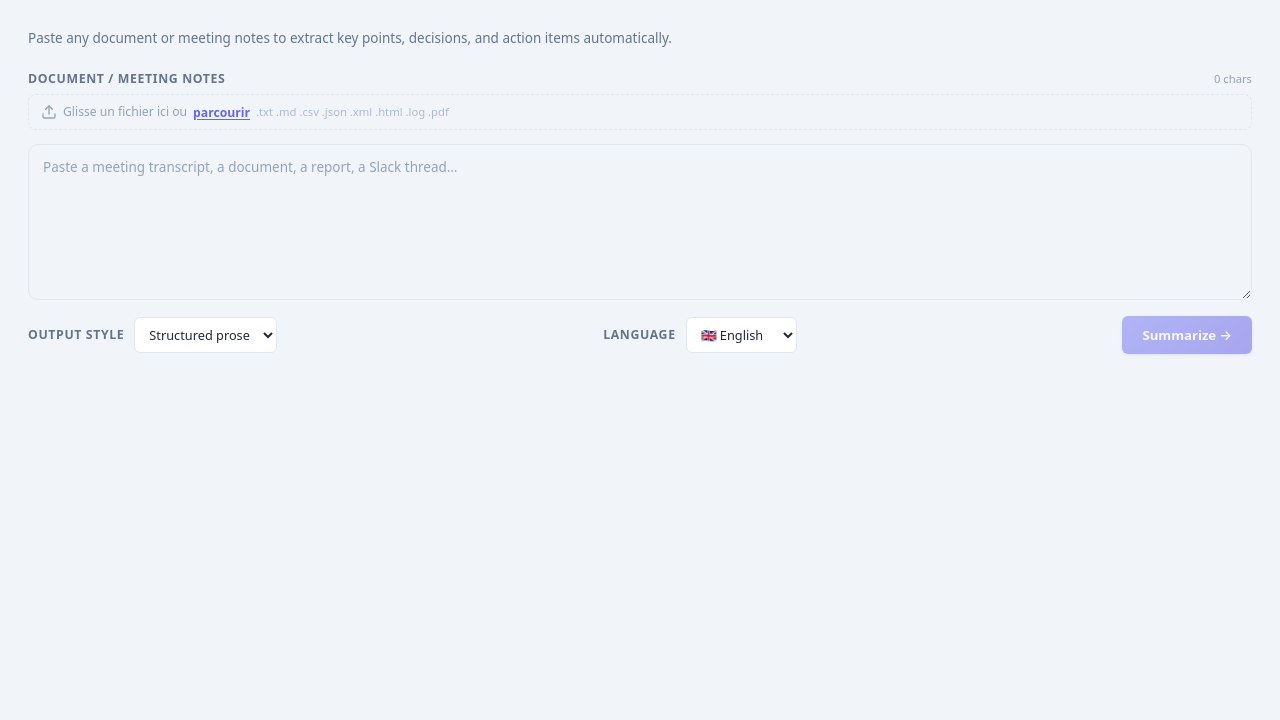
Scenario: DocumentAnalyzer › shows result on successful API response
Type "We agreed to migrate." into the text box labelled "Document / meeting notes" at (640, 222), box [28, 144, 1252, 300]
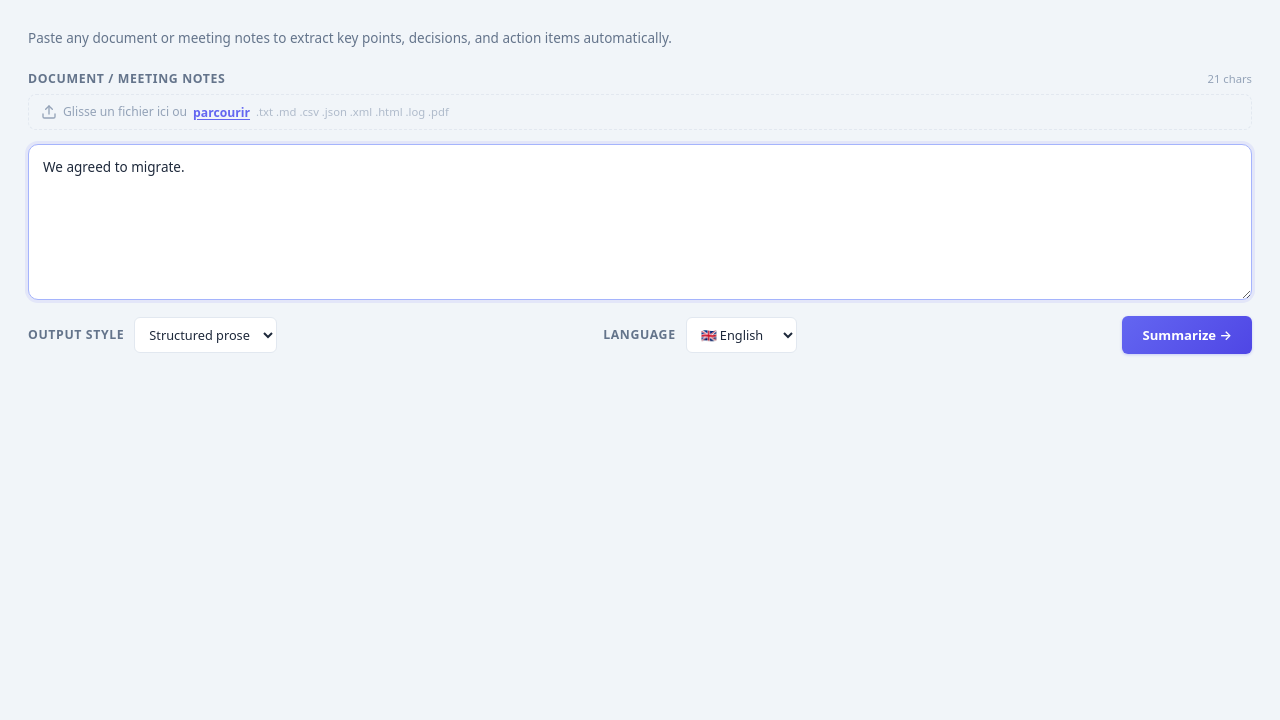
Click the button "Summarize →" at (1187, 335), box [1122, 316, 1252, 354]
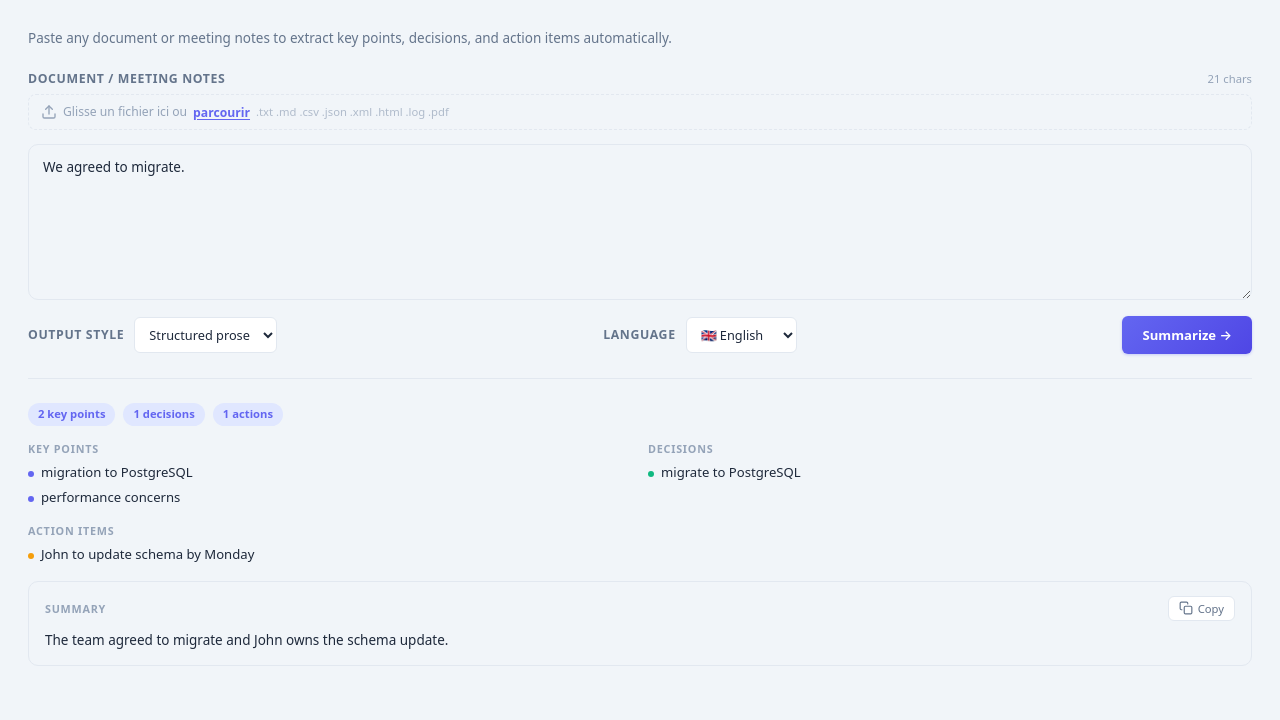
Expected: the list item "migration to PostgreSQL" is shown, [28, 463, 193, 481]
Expected: the list item "migrate to PostgreSQL" is shown, [648, 463, 801, 481]
Expected: the list item "John to update schema by Monday" is shown, [28, 545, 254, 563]
